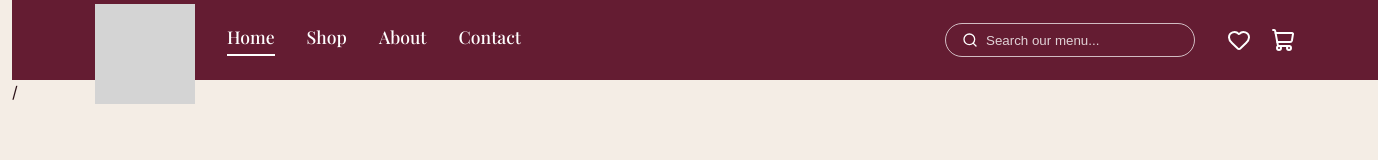
Test case: Navbar › sends the search text to the shop page
The width and height of the screenshot is (1378, 160).
In the search field named "Search products": (1082, 40) [986, 32, 1178, 48], type "latte"
Then press Enter
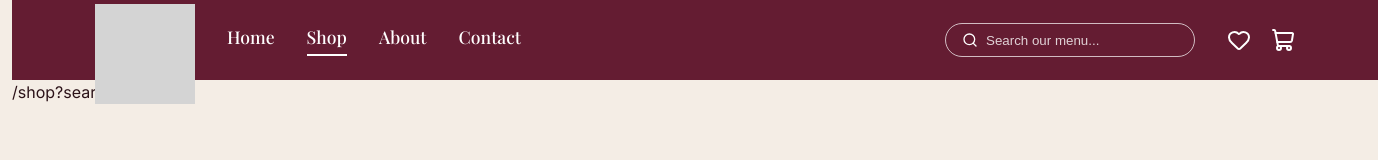
Expected: the text with test id "location" reads "/shop?search=latte", [12, 82, 158, 102]
